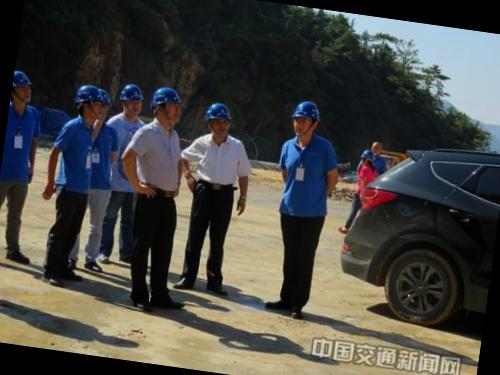no_helmet: (368, 135, 386, 157)
